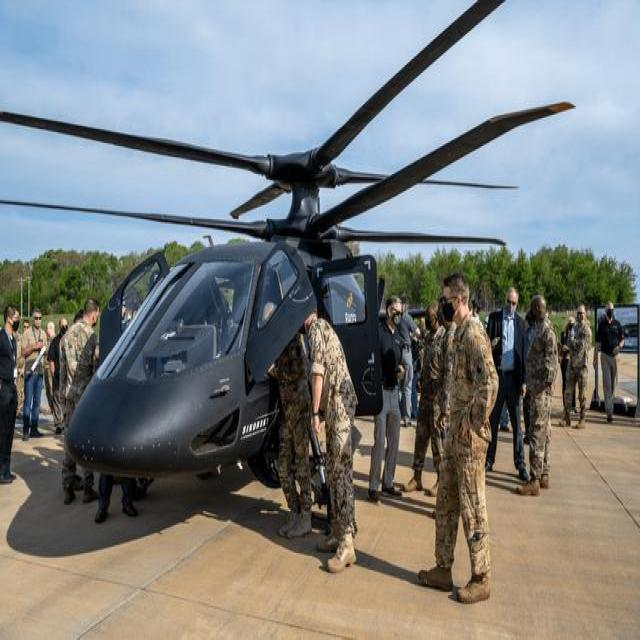MIL_HELO: (31, 73, 517, 520)
